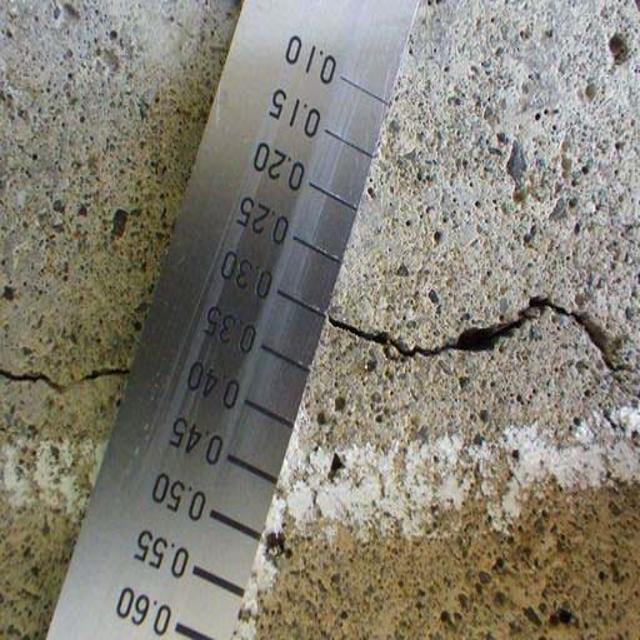crack: (337, 299, 636, 394), (3, 331, 143, 396)
